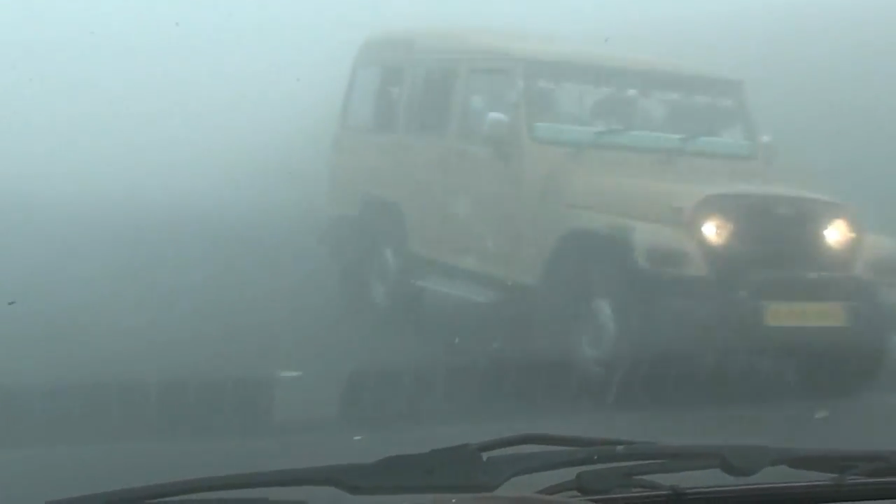car: (324, 24, 896, 400)
